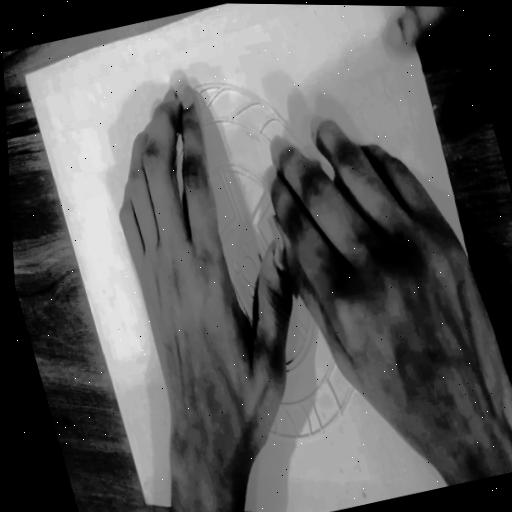bottom_right: (140, 495, 151, 509)
tire: (119, 45, 394, 485)
top_right: (19, 67, 31, 84)
